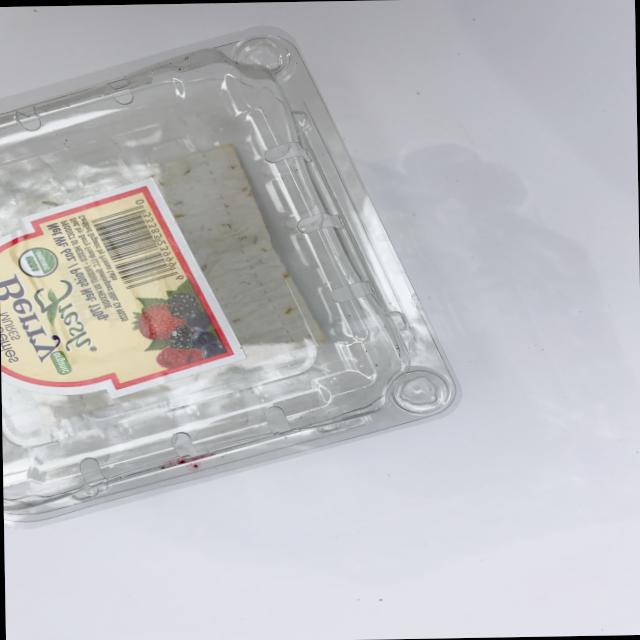Plastic: (0, 20, 482, 552)
